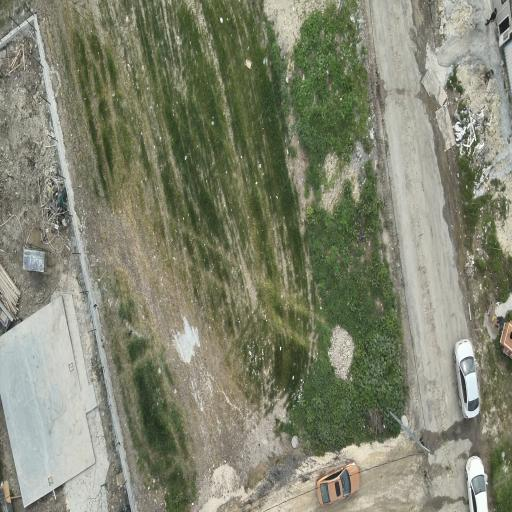car: (454, 339, 479, 418), (317, 460, 360, 505), (465, 457, 487, 511)
person: (486, 9, 497, 25), (493, 316, 504, 330)
